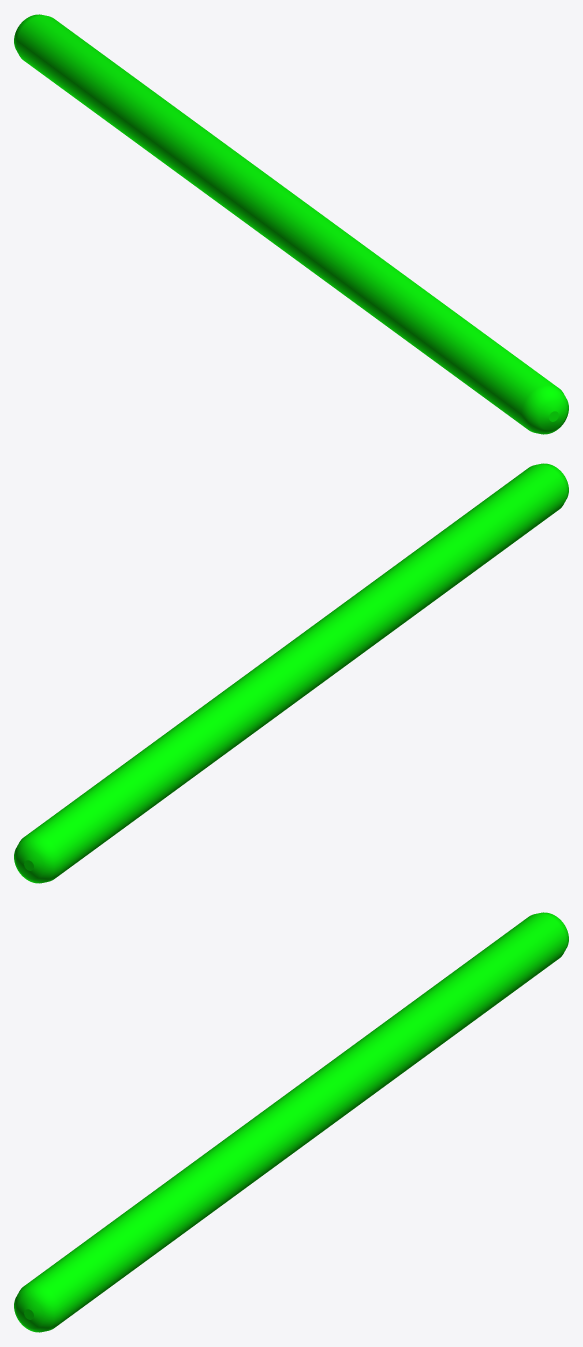
The model's file is server.glb.
3 renders of one model, top to bottom at view 1: azimuth 30°, elevation 25°; view 2: azimuth 150°, elevation 25°; view 3: azimuth 330°, elevation 25°, orthographic.
Visible parts, largest first — view 1: Curve; view 2: Curve; view 3: Curve.
Boxes of the visible parts, x1,y1,x2,y2 form: Curve: (14,14,568,434); Curve: (14,463,568,883); Curve: (14,912,568,1332).
Size of the model in its own units: 4.55 by 4.55 by 92.12.
